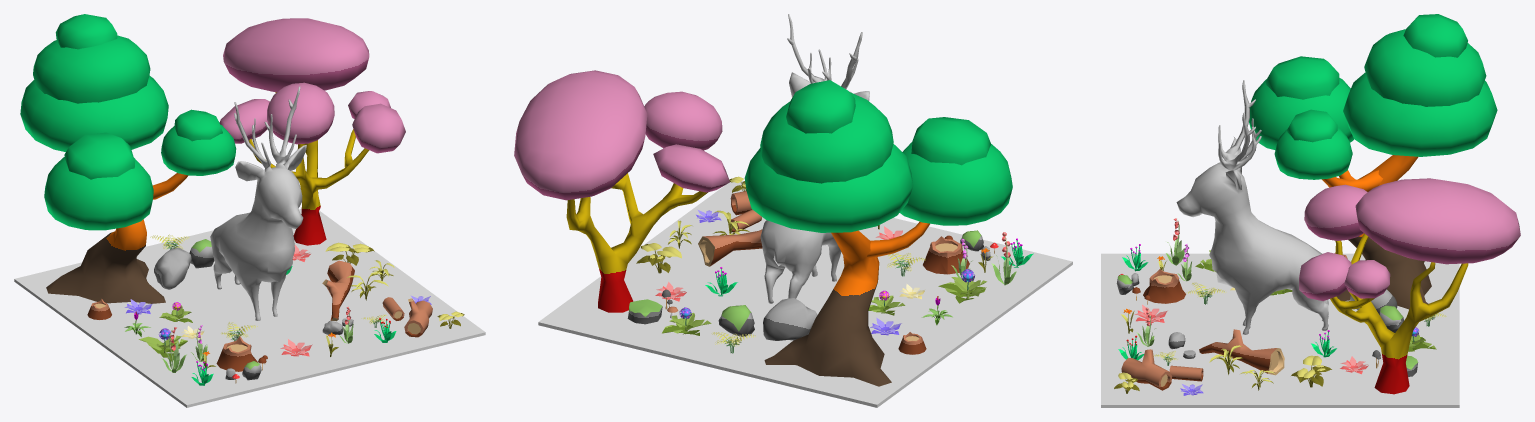
The model's file is SakiDeer_Draw.fbx.
3 renders of one model, left to right at view 1: azimuth 30°, elevation 25°; view 2: azimuth 150°, elevation 25°; view 3: azimuth 270°, elevation 25°, orthographic. The views are drawn at different scales.
Parts seen in each view (by area): view 1: SakiDeer_Plane, SakiDeer_Draw; view 2: SakiDeer_Plane, SakiDeer_Draw; view 3: SakiDeer_Plane, SakiDeer_Draw.
Boxes of the visible parts, x1,y1,x2,y2 form: SakiDeer_Plane: (14, 14, 485, 407); SakiDeer_Draw: (210, 86, 306, 320); SakiDeer_Plane: (514, 70, 1072, 407); SakiDeer_Draw: (760, 14, 869, 303); SakiDeer_Plane: (1101, 14, 1520, 407); SakiDeer_Draw: (1176, 80, 1328, 334).
Bounding box in the file's own units: 1571 × 1059 × 1497.
